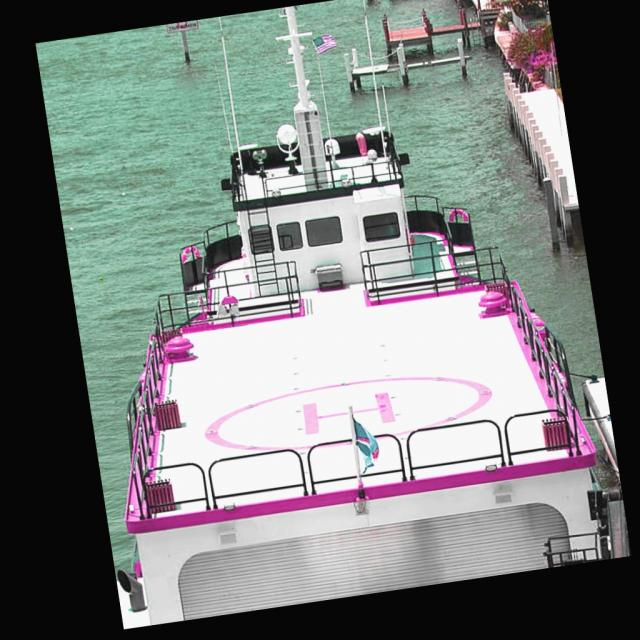helipad: (200, 362, 500, 468)
